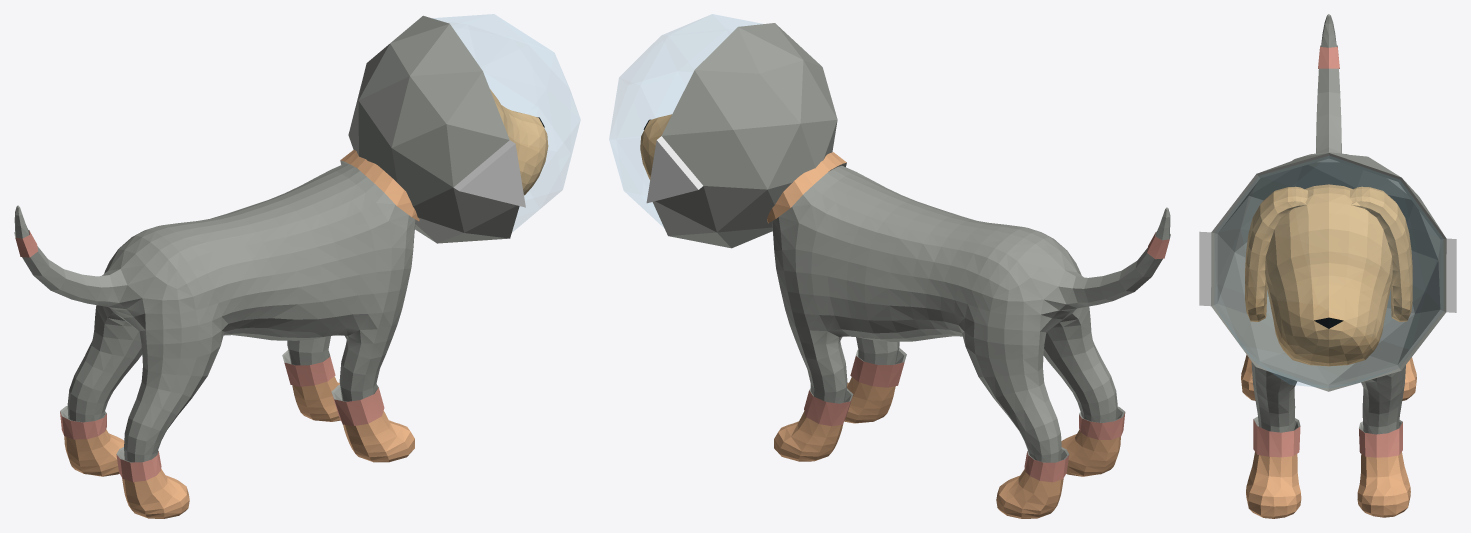
The model's file is Hero.fbx.
The picture shows the model from 3 angles, left to right: view 1: azimuth 30°, elevation 25°; view 2: azimuth 150°, elevation 25°; view 3: azimuth 270°, elevation 25°; orthographic projection. The views are drawn at different scales.
Parts seen in each view (by area): view 1: DogOriginal, Helmet; view 2: DogOriginal, Helmet; view 3: DogOriginal, Helmet.
Part boxes in pixels (x1=…): DogOriginal: x1=14, y1=89, x2=548, y2=518; Helmet: x1=348, y1=14, x2=579, y2=243; DogOriginal: x1=640, y1=114, x2=1170, y2=518; Helmet: x1=609, y1=14, x2=837, y2=248; DogOriginal: x1=1241, y1=14, x2=1416, y2=518; Helmet: x1=1199, y1=153, x2=1456, y2=391.
Bounding box in the file's own units: 162 × 109 × 63.46.
